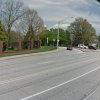Tree: (54, 7, 100, 44)
